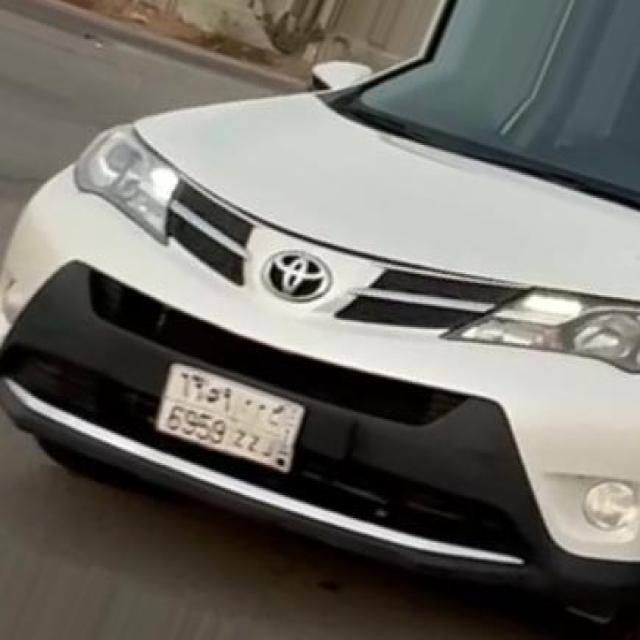Car-plate: (139, 348, 322, 496)
